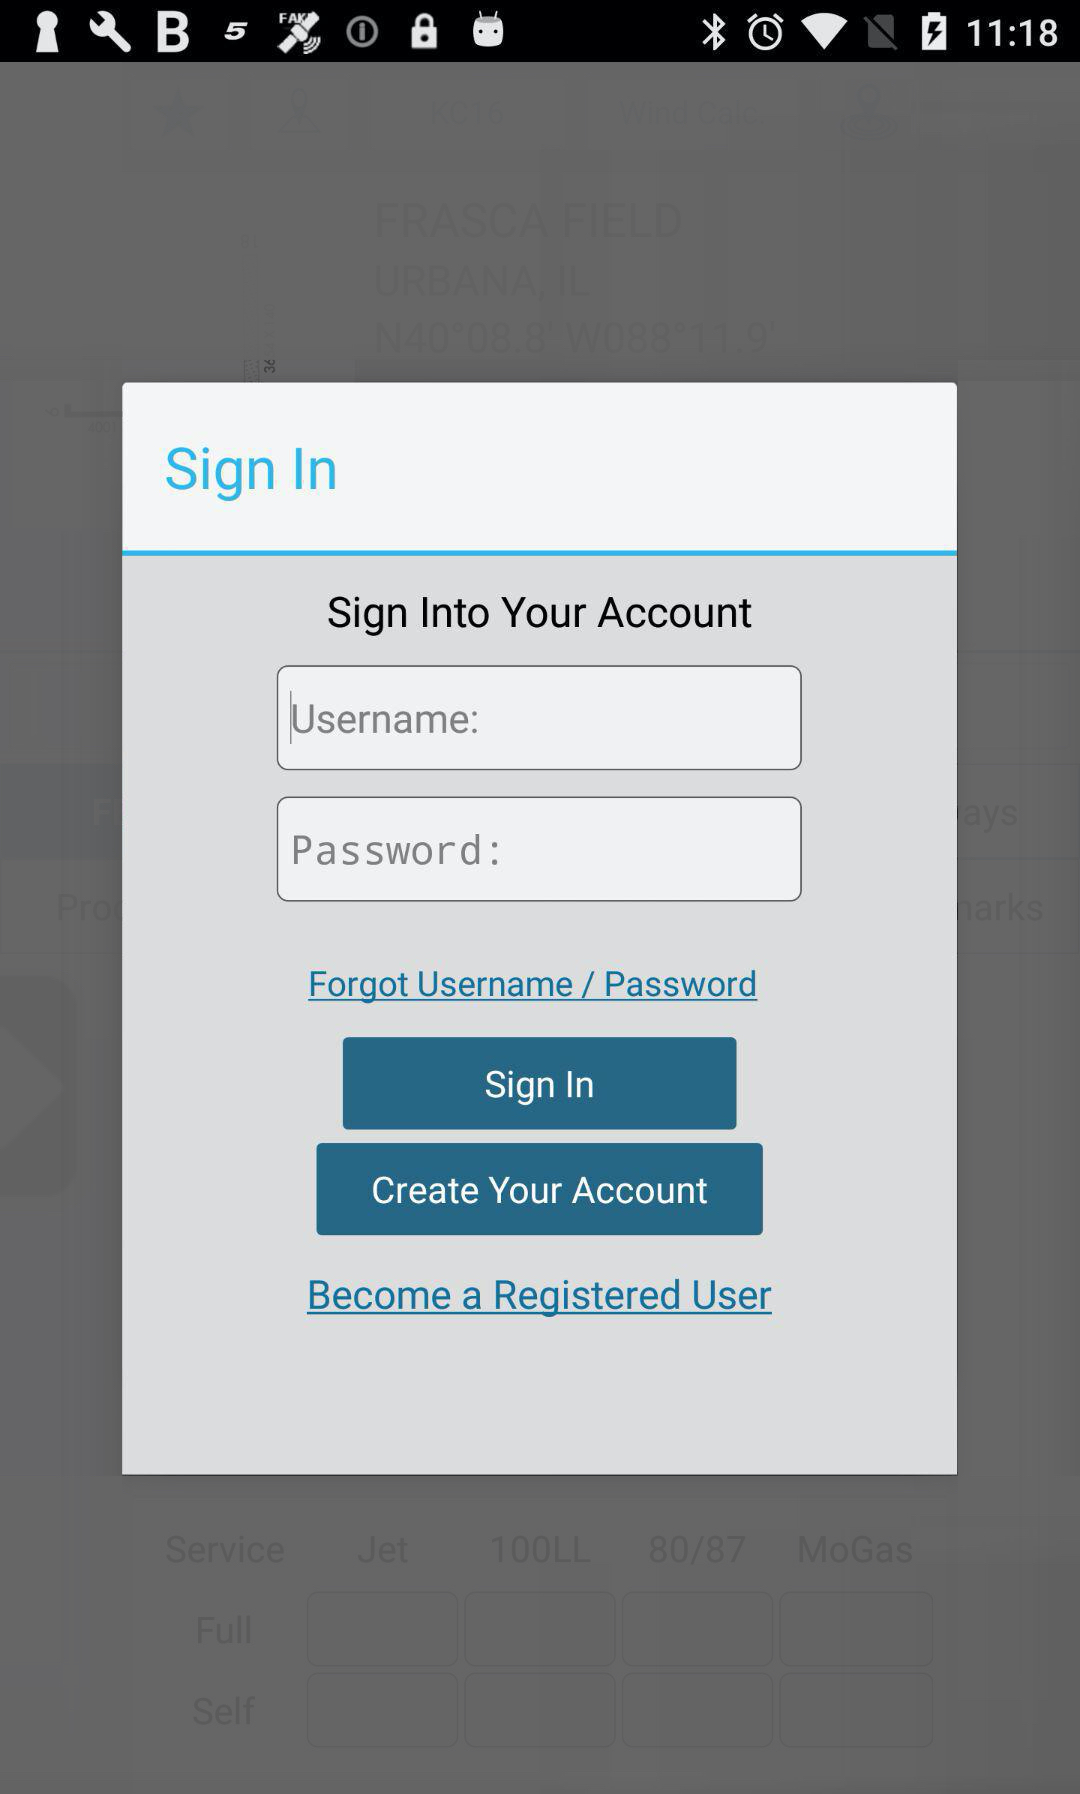EditText: (277, 796, 803, 902), (277, 666, 803, 771)
Modal: (122, 383, 957, 1475)
Text: (306, 1279, 773, 1317), (329, 596, 752, 636), (309, 970, 758, 1002), (167, 447, 337, 502), (293, 834, 498, 866), (293, 704, 478, 736)
TextButton: (316, 1143, 764, 1237), (342, 1038, 738, 1132)
UpperTaskBar: (1, 1, 1080, 64)
